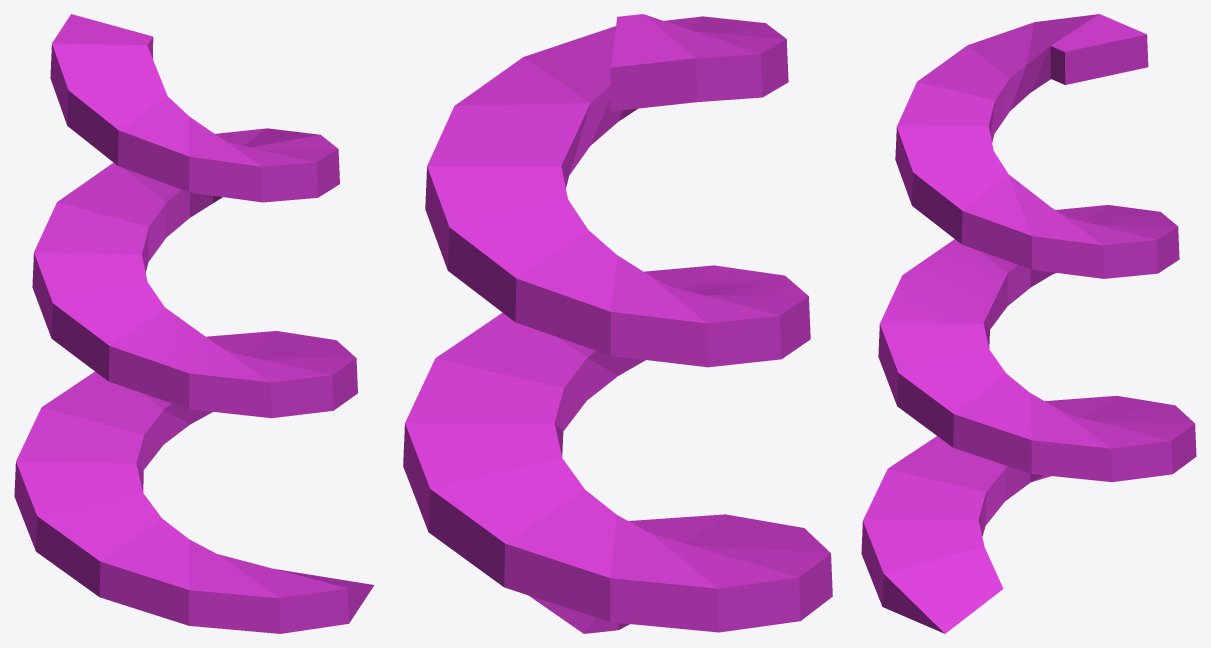
The model's file is Stair_Collision.fbx.
The picture shows the model from 3 angles, left to right: view 1: azimuth 30°, elevation 25°; view 2: azimuth 150°, elevation 25°; view 3: azimuth 270°, elevation 25°; orthographic projection. The views are drawn at different scales.
Visible parts, largest first — view 1: Stairs_Collsion; view 2: Stairs_Collsion; view 3: Stairs_Collsion.
Part boxes in pixels (left/top/right/bottom): Stairs_Collsion: left=14, top=14, right=374, bottom=633; Stairs_Collsion: left=403, top=14, right=832, bottom=633; Stairs_Collsion: left=861, top=14, right=1196, bottom=633.
Size of the model in its own units: 14.85 by 25.55 by 15.23.
